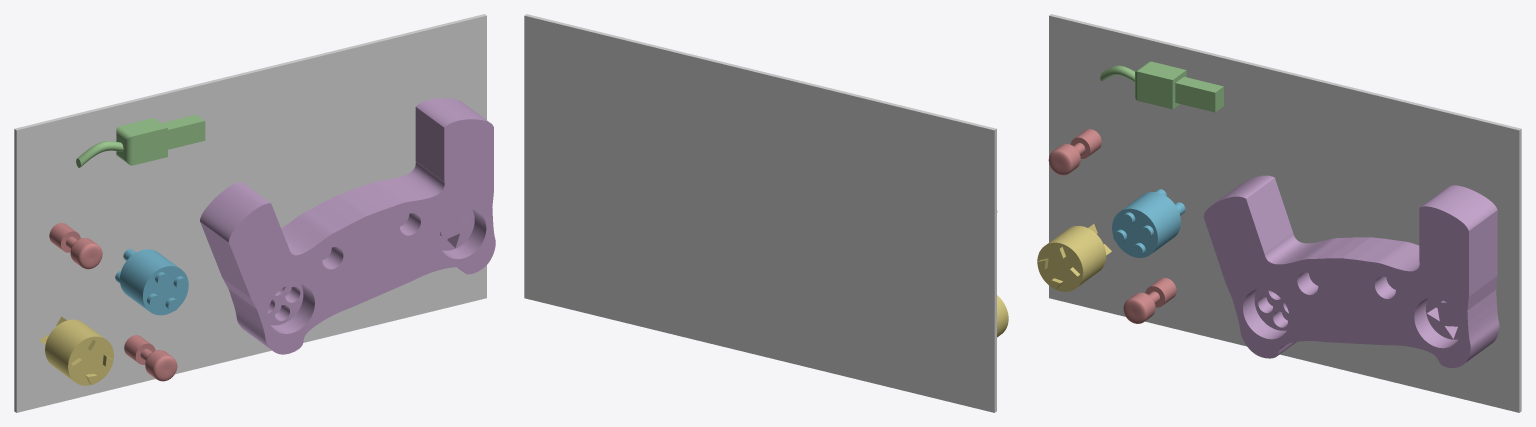
The model's file is pickup_layout.glb.
3 views of the same model, side by side, from view 1: azimuth 30°, elevation 25°; view 2: azimuth 150°, elevation 25°; view 3: azimuth 330°, elevation 25° (orthographic).
Visible parts, largest first — view 1: world, 3.obj, 4.obj, 2.obj, 1.obj, 5.obj, 0.obj; view 2: world; view 3: world, 3.obj, 4.obj, 2.obj, 1.obj, 5.obj, 0.obj.
Part boxes in pixels (<box>): world: <box>14,14,486,412</box>; 3.obj: <box>200,98,495,354</box>; 4.obj: <box>76,114,205,167</box>; 2.obj: <box>115,249,188,315</box>; 1.obj: <box>39,316,113,385</box>; 5.obj: <box>124,335,177,381</box>; 0.obj: <box>49,223,102,269</box>; world: <box>524,14,996,412</box>; world: <box>1049,14,1521,412</box>; 3.obj: <box>1203,175,1499,367</box>; 4.obj: <box>1100,61,1223,112</box>; 2.obj: <box>1112,189,1185,257</box>; 1.obj: <box>1037,224,1111,291</box>; 5.obj: <box>1123,277,1176,323</box>; 0.obj: <box>1048,129,1101,175</box>.
Size of the model in its own units: 23.6 by 13.54 by 3.2.
